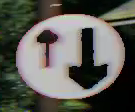Two way: (10, 9, 127, 102)
